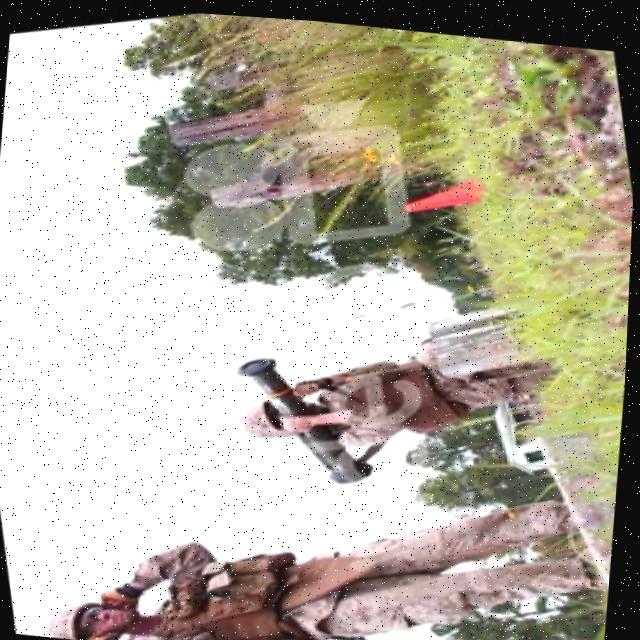rocket: (226, 329, 397, 502)
